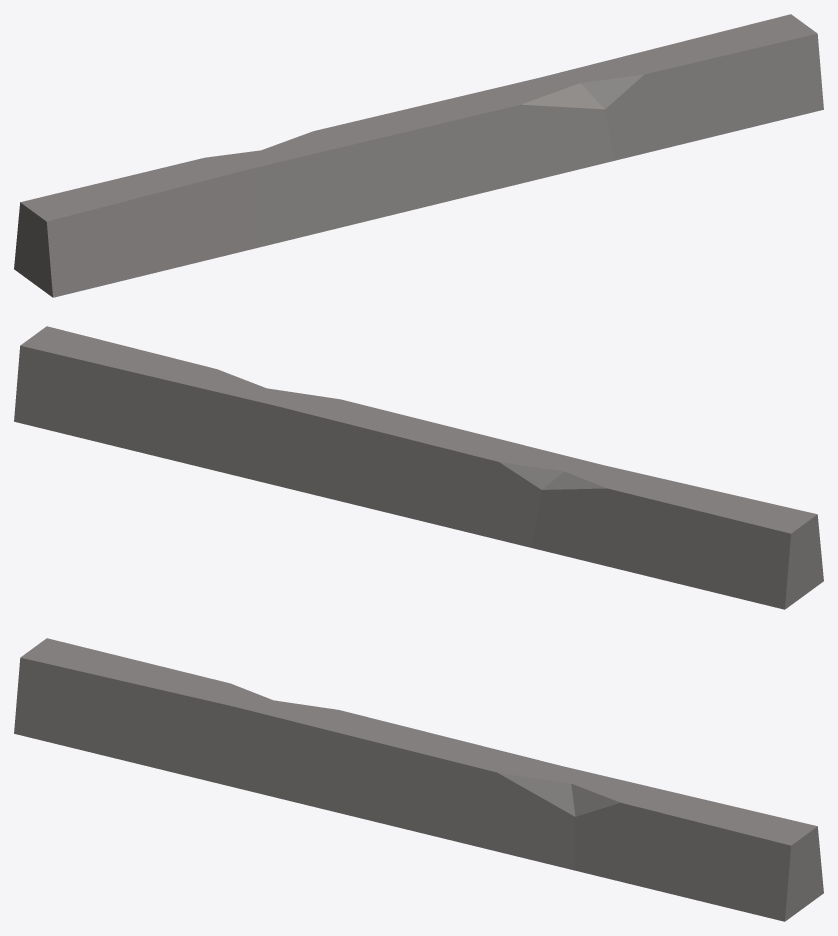
Rendered from SM_Env_Road_Edge_01.fbx.
3 renders of one model, top to bottom at view 1: azimuth 30°, elevation 25°; view 2: azimuth 150°, elevation 25°; view 3: azimuth 330°, elevation 25°, orthographic.
Visible parts, largest first — view 1: SM_Env_Road_Edge_01; view 2: SM_Env_Road_Edge_01; view 3: SM_Env_Road_Edge_01.
Part boxes in pixels (<box>): SM_Env_Road_Edge_01: <box>14,14,823,297</box>; SM_Env_Road_Edge_01: <box>14,326,823,609</box>; SM_Env_Road_Edge_01: <box>14,638,823,921</box>.
Size of the model in its own units: 500 by 44.32 by 43.88.
